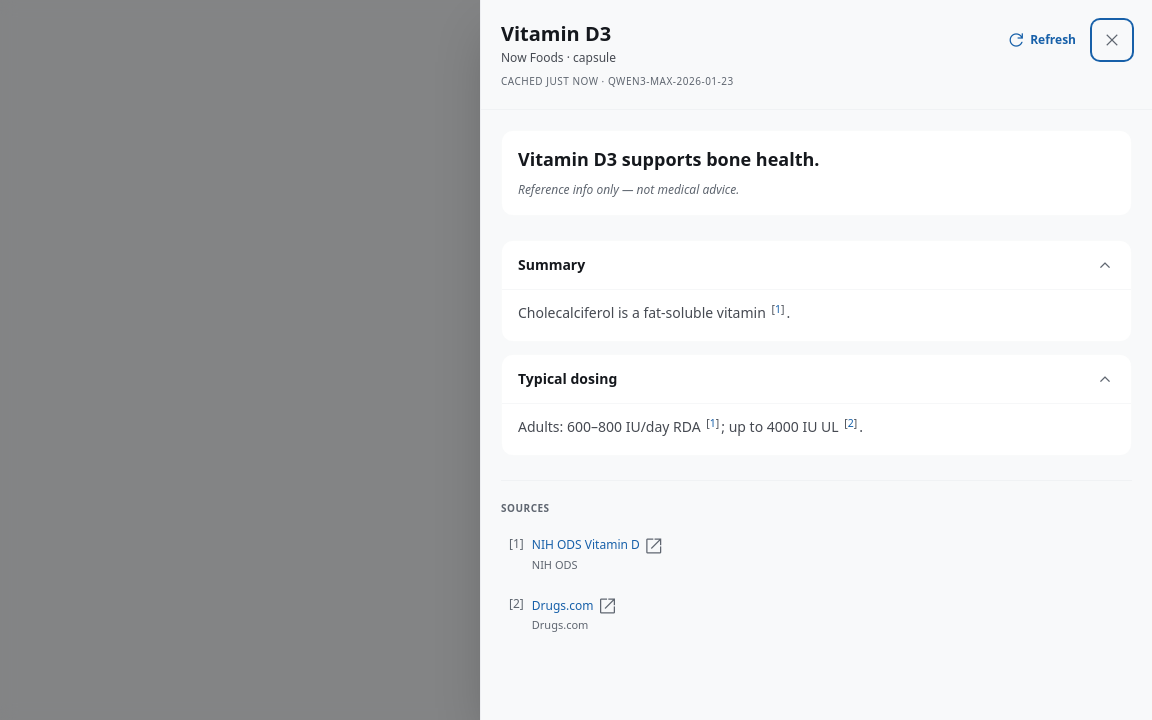
Scenario: DossierDrawer › keeps cached content visible while a refresh is pending
Expected: the text "Vitamin D3 supports bone health." is shown, [518,147,819,171]
Click the button with aria-label "refresh dossier": {"x": 1041, "y": 40} [994,20,1088,60]
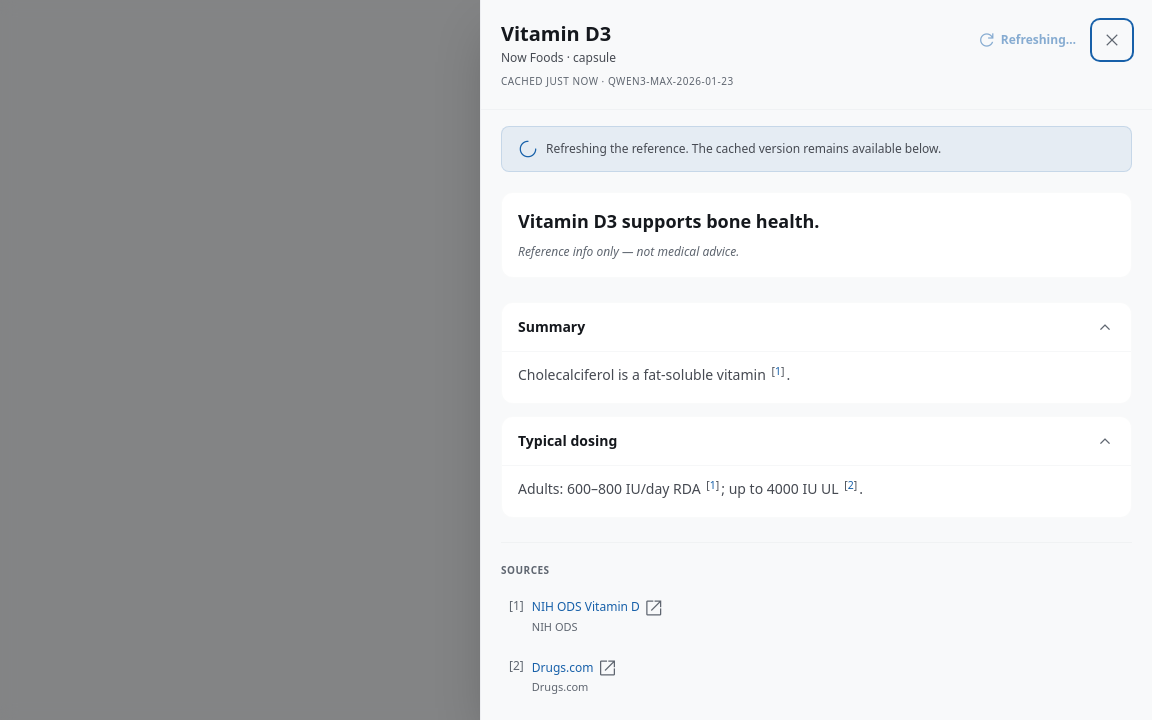
Expected: the text "Vitamin D3 supports bone health." is shown, [518,209,819,233]
Now the text "Refreshing the reference. The cached version remains available below." is shown, box [501,126,1132,172]
